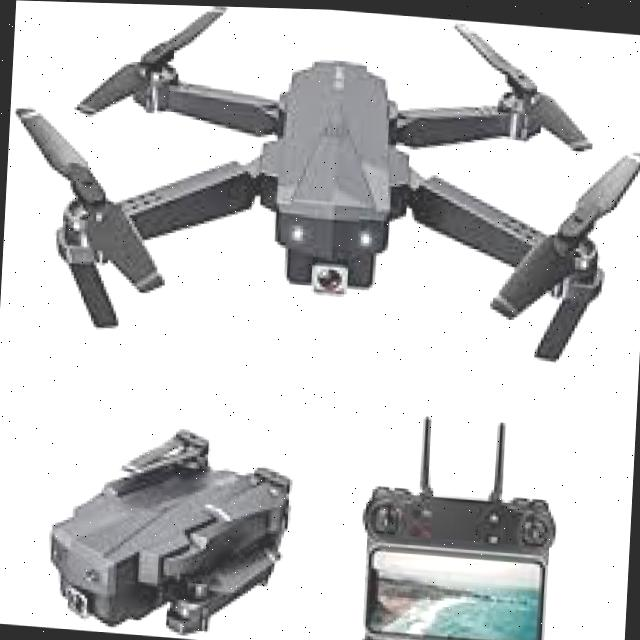drone: (0, 0, 640, 414)
